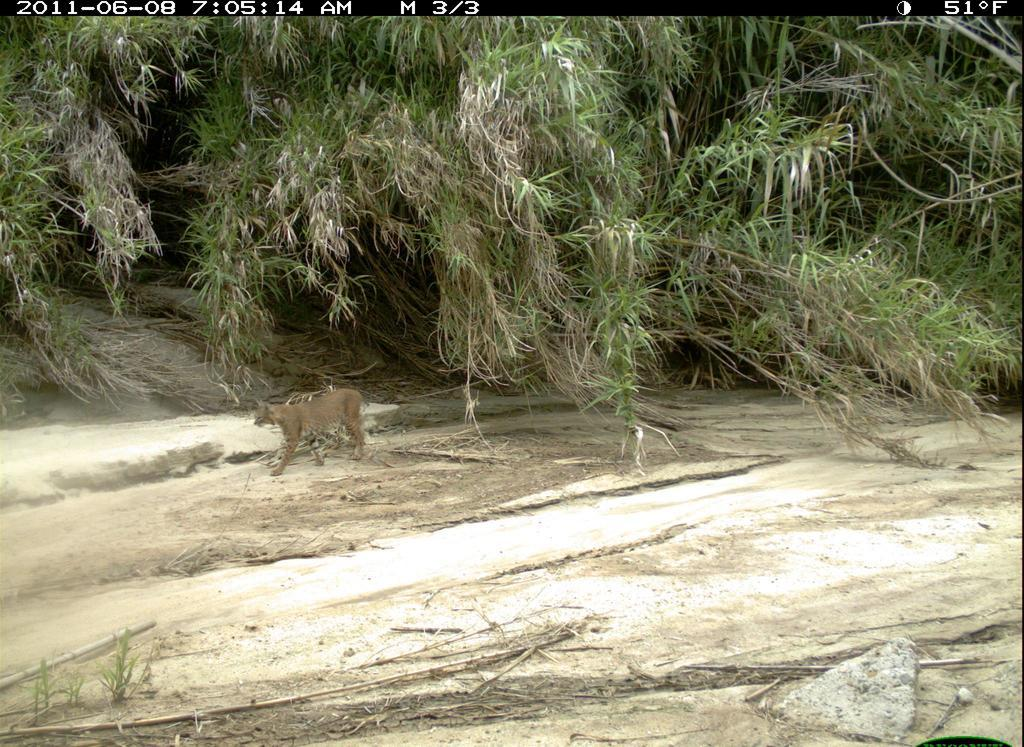bobcat: (245, 383, 379, 483)
